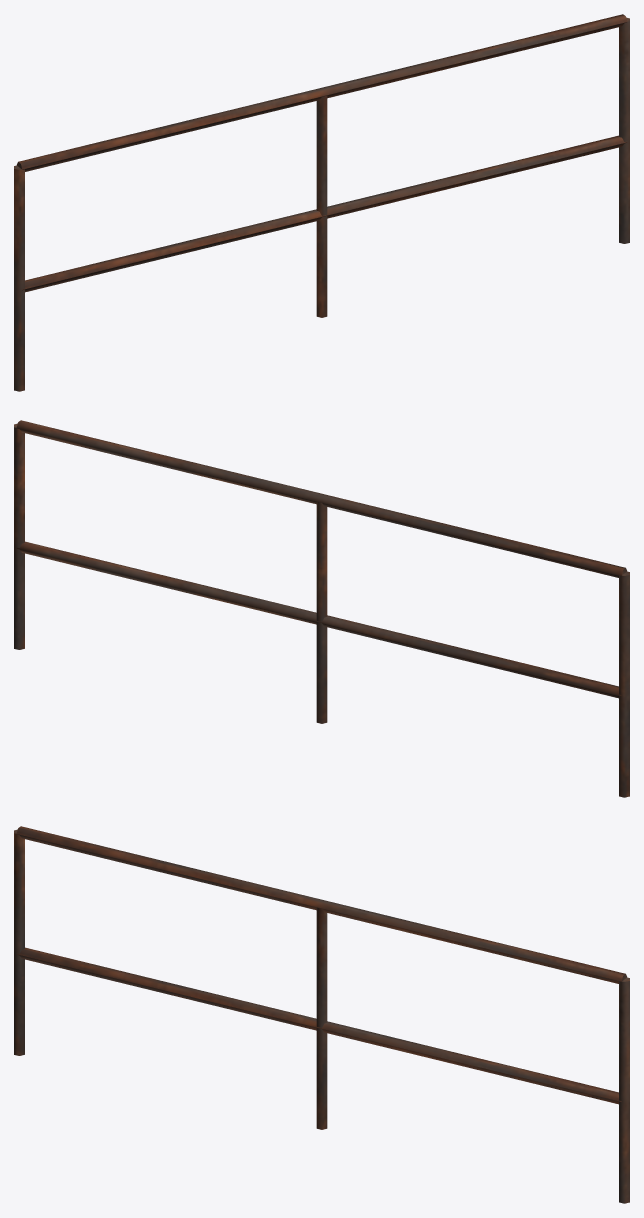
The model's file is Railing_3m.glb.
The picture shows the model from 3 angles, top to bottom: view 1: azimuth 30°, elevation 25°; view 2: azimuth 150°, elevation 25°; view 3: azimuth 330°, elevation 25°; orthographic projection.
Visible parts, largest first — view 1: Railing_3m; view 2: Railing_3m; view 3: Railing_3m.
Boxes of the visible parts, x1,y1,x2,y2 form: Railing_3m: [14, 14, 629, 391]; Railing_3m: [14, 420, 629, 797]; Railing_3m: [14, 826, 629, 1203].
Bounding box in the file's own units: 3.05 × 1.07 × 0.05.
1 material, 1 textured.
